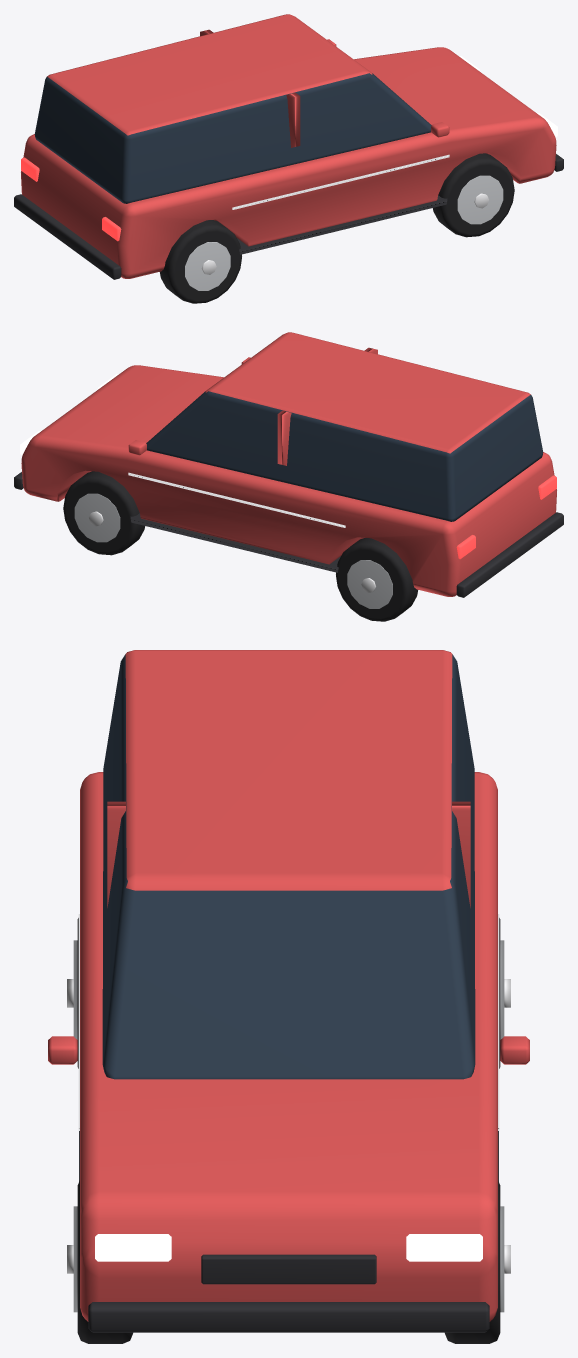
The model's file is rc-suv.glb.
3 renders of one model, top to bottom at view 1: azimuth 30°, elevation 25°; view 2: azimuth 150°, elevation 25°; view 3: azimuth 270°, elevation 25°, orthographic. The views are drawn at different scales.
Parts seen in each view (by area): view 1: car_suv; view 2: car_suv; view 3: car_suv.
Boxes of the visible parts, x1,y1,x2,y2 form: car_suv: (14,14,563,303); car_suv: (14,332,563,621); car_suv: (48,650,529,1343).
Bounding box in the file's own units: 4.89 × 1.88 × 2.26.
